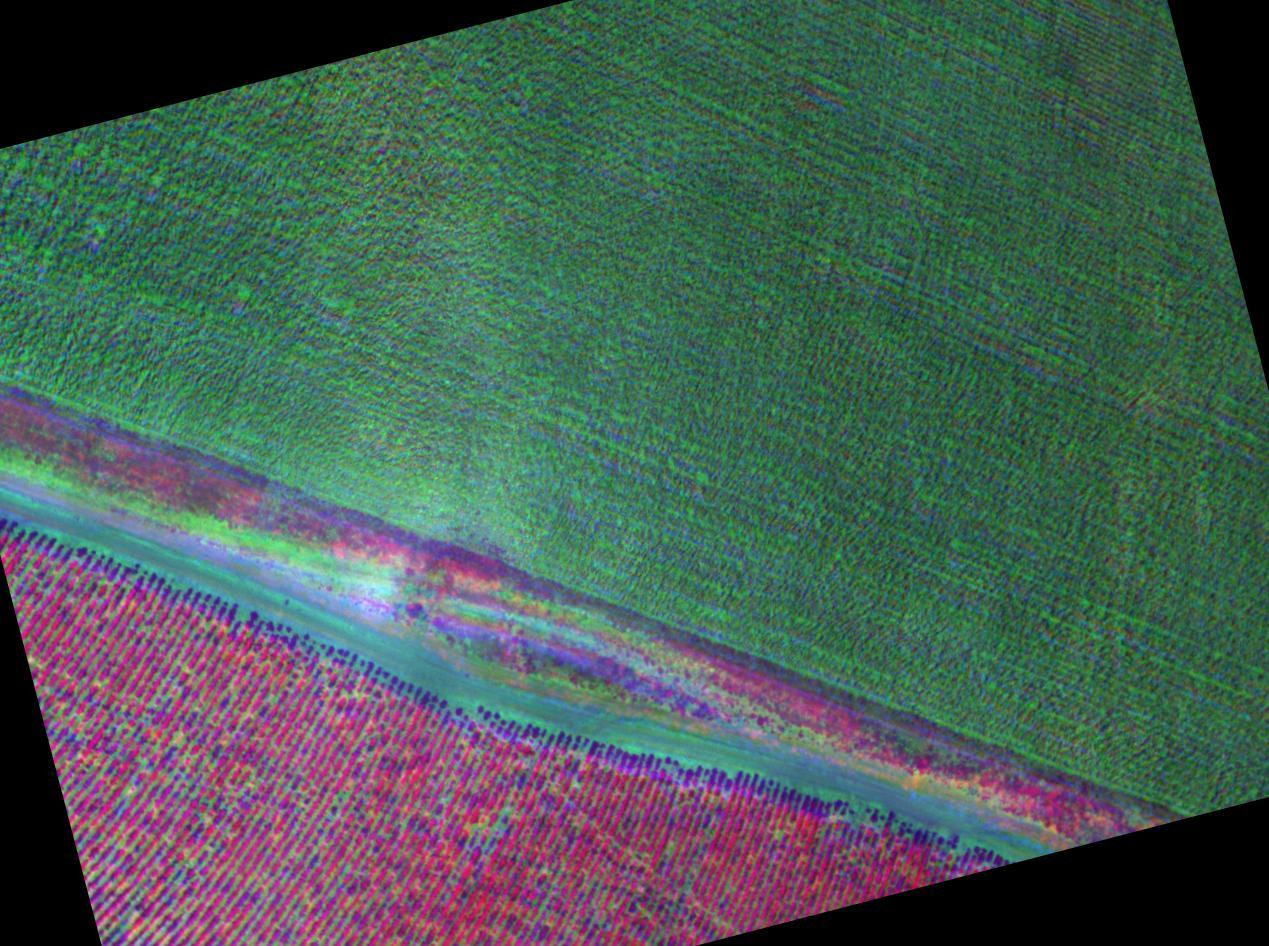dc: (598, 845, 691, 928), (261, 763, 351, 839), (453, 770, 524, 857), (33, 700, 124, 765), (126, 870, 203, 946)
